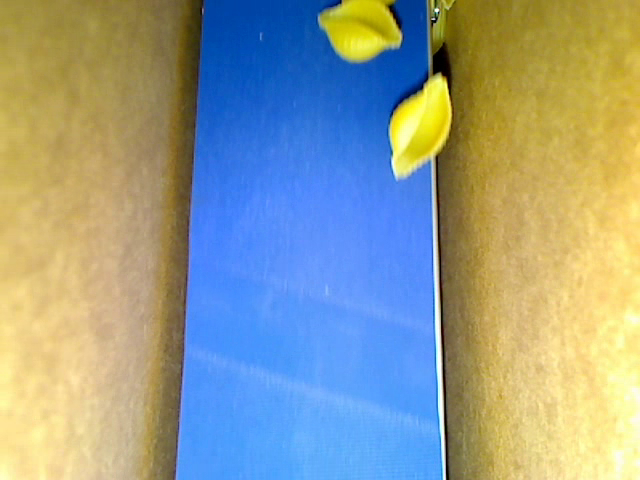penne: (428, 1, 443, 59), (440, 1, 457, 14)
shell: (388, 72, 451, 180), (317, 1, 401, 64)
